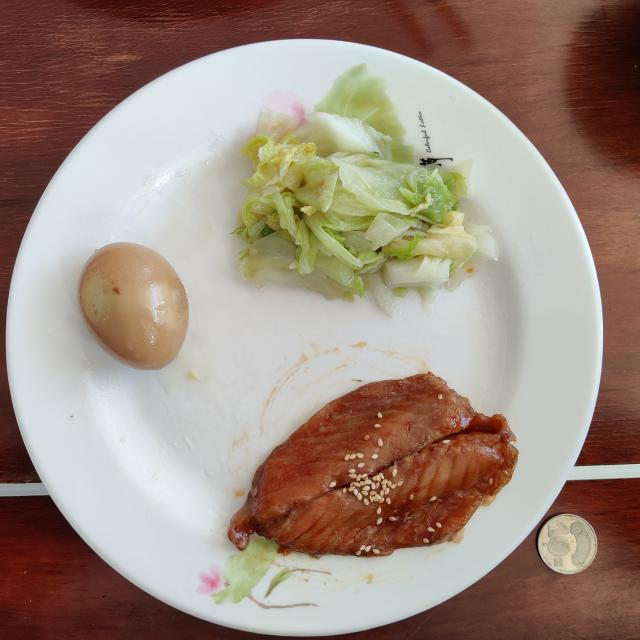Kabayaki sea bream fillet: (228, 372, 518, 556)
cabbage: (234, 109, 499, 312)
coin: (538, 514, 598, 574)
soy egg: (79, 242, 189, 370)
